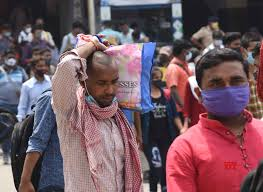with_incorrect_mask: (87, 66, 118, 110)
with_mask: (202, 67, 248, 118)
